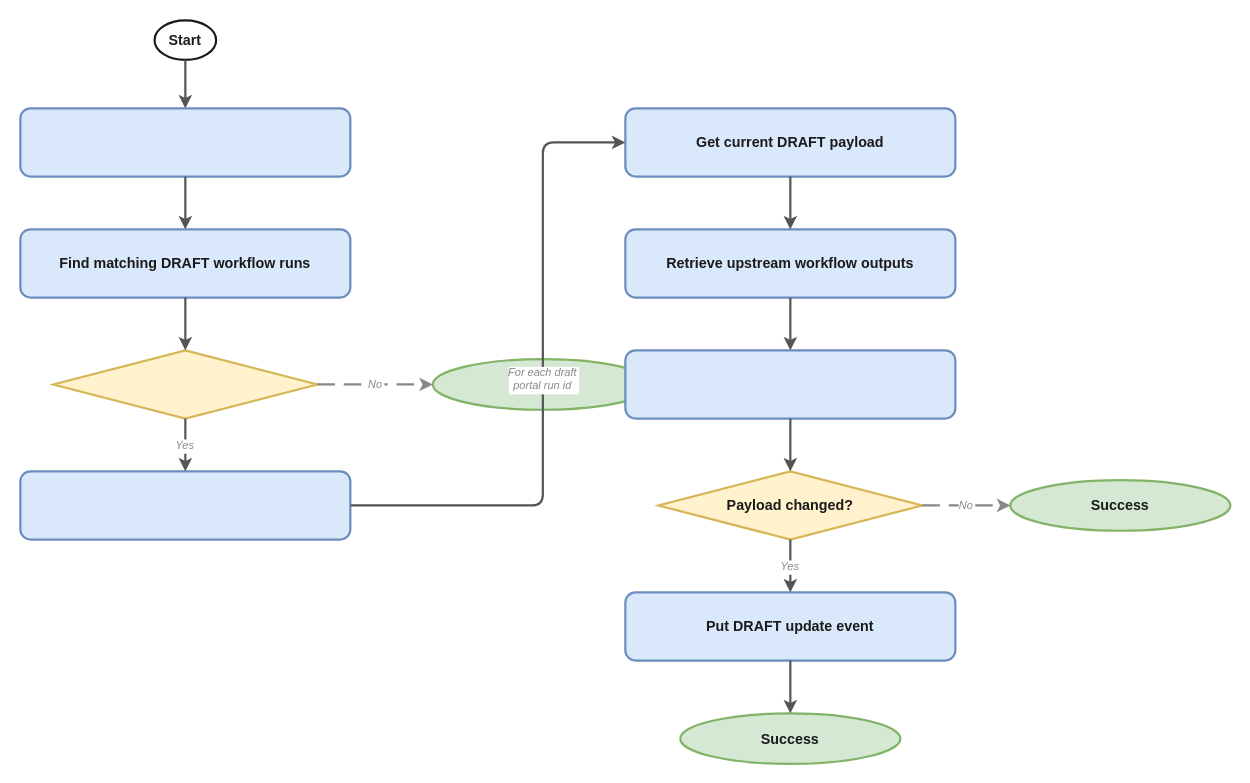
Image size: 1250x783. Some labels were removed from this diagram. The shapes that lost their labels are listed below. From the top down, each one's centre as x and y in pixels, then its label:
(x=185, y=142): Get upstream workflow run object
(x=185, y=384): DRAFT found?
(x=790, y=384): Merge upstream outputs into DRAFT payload
(x=185, y=505): For each matching DRAFT
